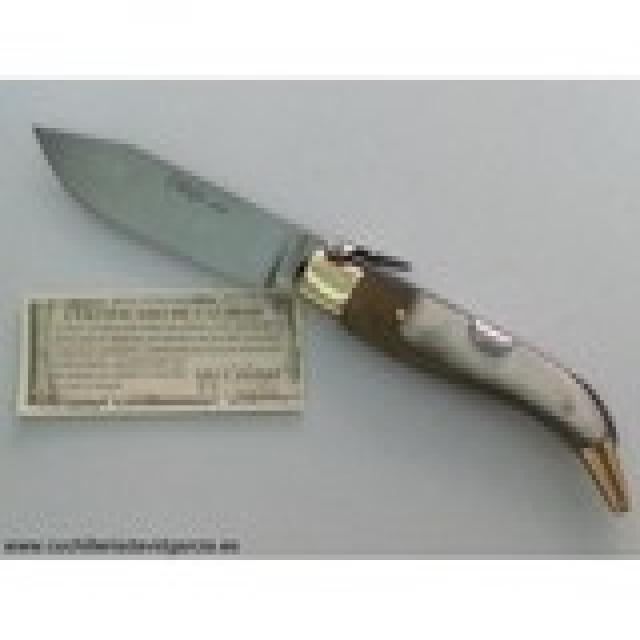Knife: (37, 108, 633, 500)
